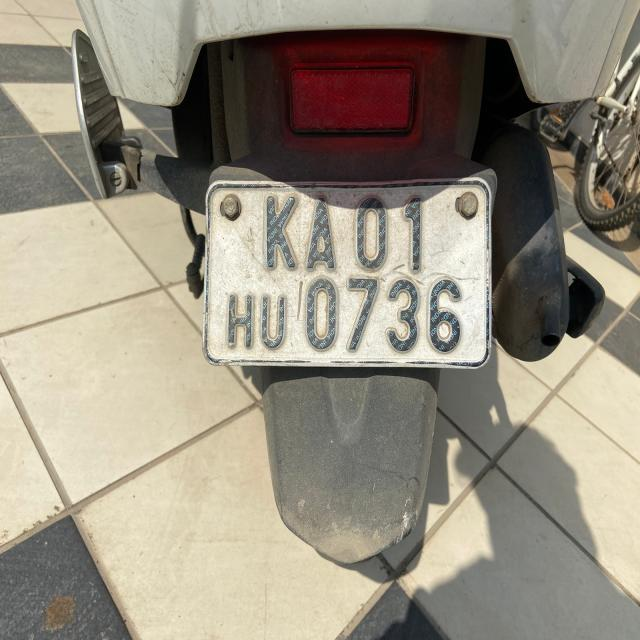0: (348, 187, 393, 269), (300, 276, 340, 354)
1: (398, 185, 432, 276)
3: (385, 272, 425, 360)
6: (428, 274, 466, 359)
7: (341, 270, 382, 355)
A: (300, 191, 338, 275)
H: (220, 288, 258, 358)
K: (258, 190, 300, 276)
U: (258, 291, 289, 355)
